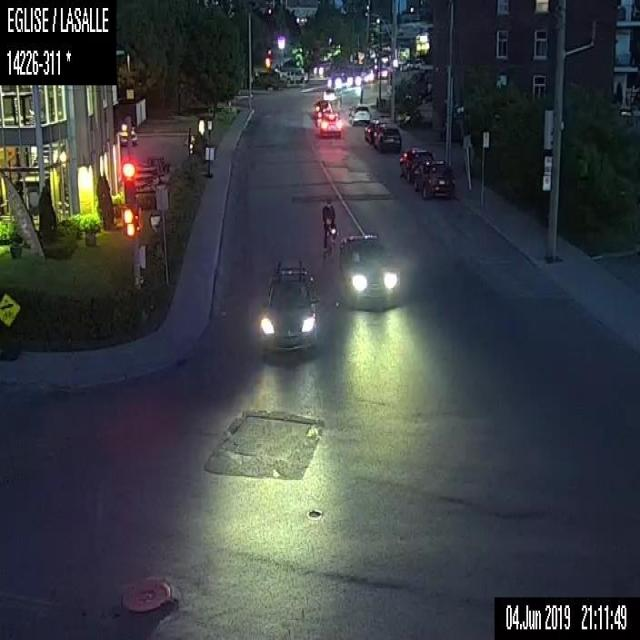cyclist: (320, 196, 337, 256)
vehicle: (258, 254, 317, 350), (336, 233, 399, 299), (411, 156, 454, 200), (398, 144, 431, 181), (374, 124, 399, 153), (317, 114, 342, 138), (348, 100, 370, 126), (283, 66, 308, 84), (311, 99, 332, 119), (364, 118, 380, 144), (321, 90, 340, 108), (326, 72, 344, 91), (345, 72, 362, 86), (312, 62, 328, 76)
